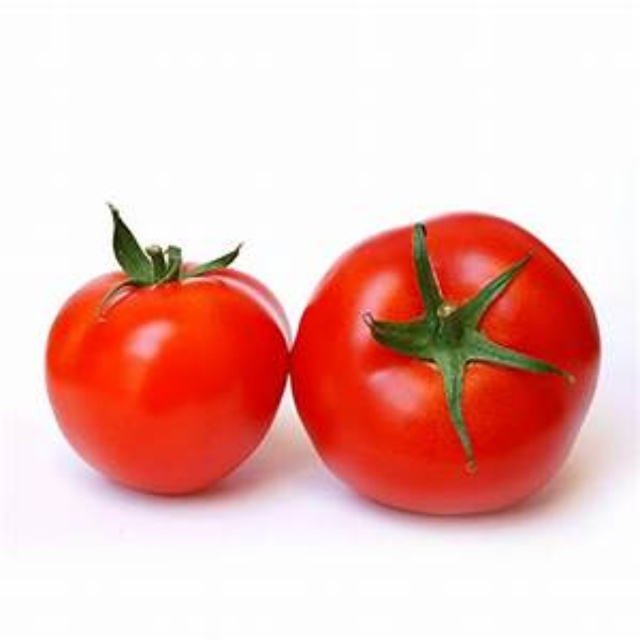tomato: (294, 215, 596, 527), (38, 245, 292, 502)
